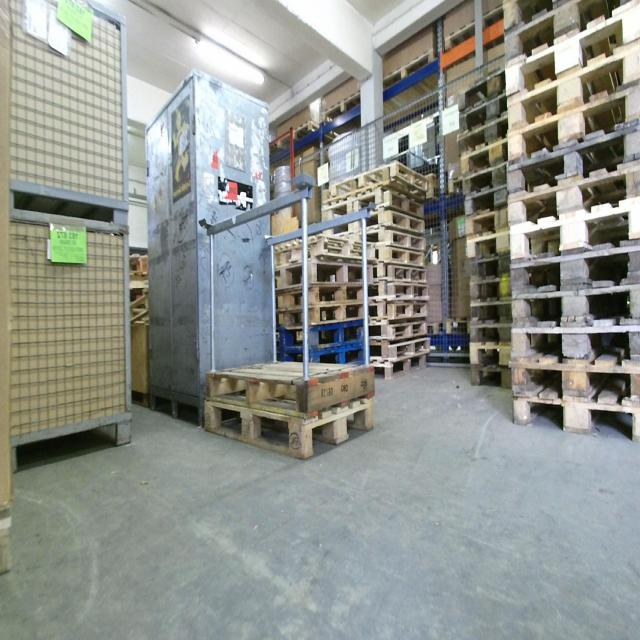pallet: (202, 391, 375, 454), (507, 123, 636, 200), (509, 48, 636, 126), (507, 10, 632, 87), (500, 94, 634, 165), (509, 197, 636, 264), (510, 248, 637, 300), (507, 171, 634, 223), (509, 397, 637, 439), (509, 290, 636, 332), (331, 158, 429, 201), (510, 364, 637, 397), (509, 332, 637, 364), (442, 7, 508, 58), (275, 259, 367, 292), (383, 46, 440, 96), (274, 236, 363, 268), (276, 301, 368, 330), (276, 115, 342, 155), (275, 282, 367, 309), (276, 321, 366, 345), (457, 113, 507, 153), (351, 191, 424, 218), (322, 87, 369, 128), (280, 342, 366, 362), (460, 137, 504, 176), (464, 178, 508, 215), (465, 159, 506, 194), (372, 337, 429, 361), (465, 203, 506, 234), (366, 230, 426, 251), (370, 301, 429, 322), (467, 227, 508, 257), (404, 176, 444, 206), (369, 212, 426, 233), (371, 281, 429, 301), (372, 361, 427, 380), (131, 281, 152, 330), (471, 365, 511, 390), (470, 254, 510, 278), (469, 299, 510, 322), (371, 248, 422, 266), (471, 342, 510, 365), (371, 267, 428, 282), (470, 278, 510, 299), (370, 322, 426, 337), (469, 322, 510, 342), (426, 317, 444, 343), (443, 316, 467, 335), (444, 179, 464, 197)
stillage: (8, 210, 136, 475), (11, 0, 133, 228)
